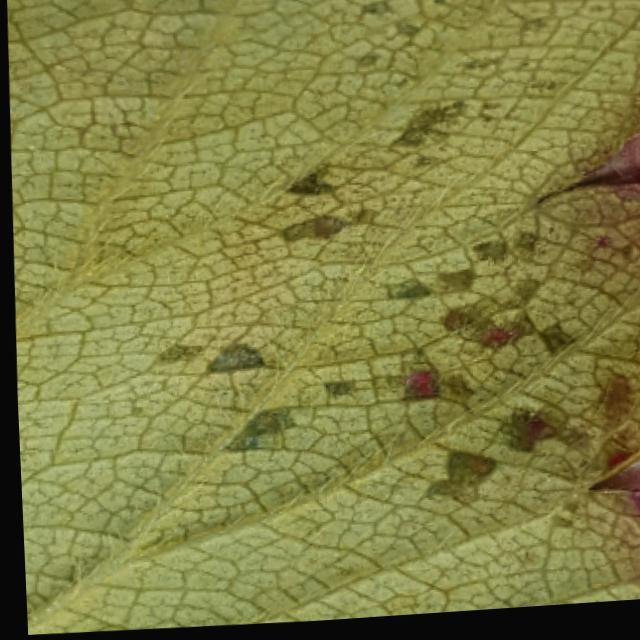Angular Leafspot: (134, 0, 640, 586)
